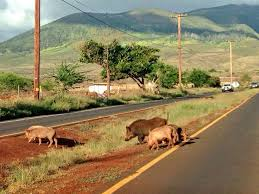boar: (124, 118, 169, 147), (20, 126, 61, 147), (148, 126, 179, 151)
